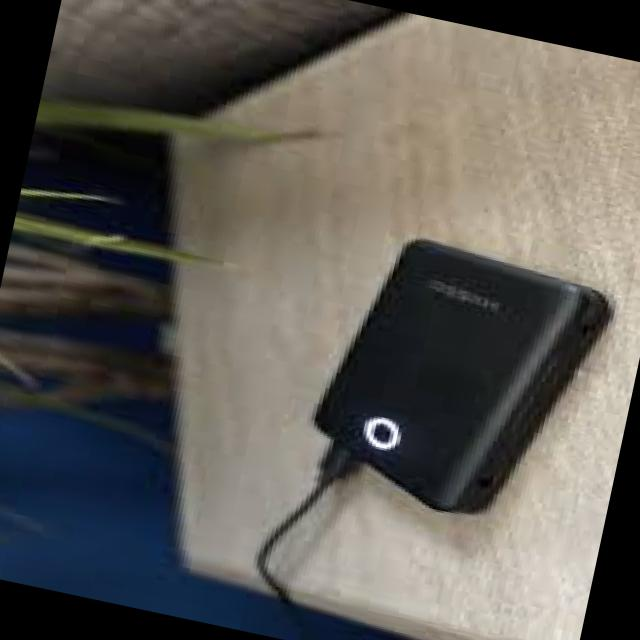portable-charger: (303, 220, 628, 536)
